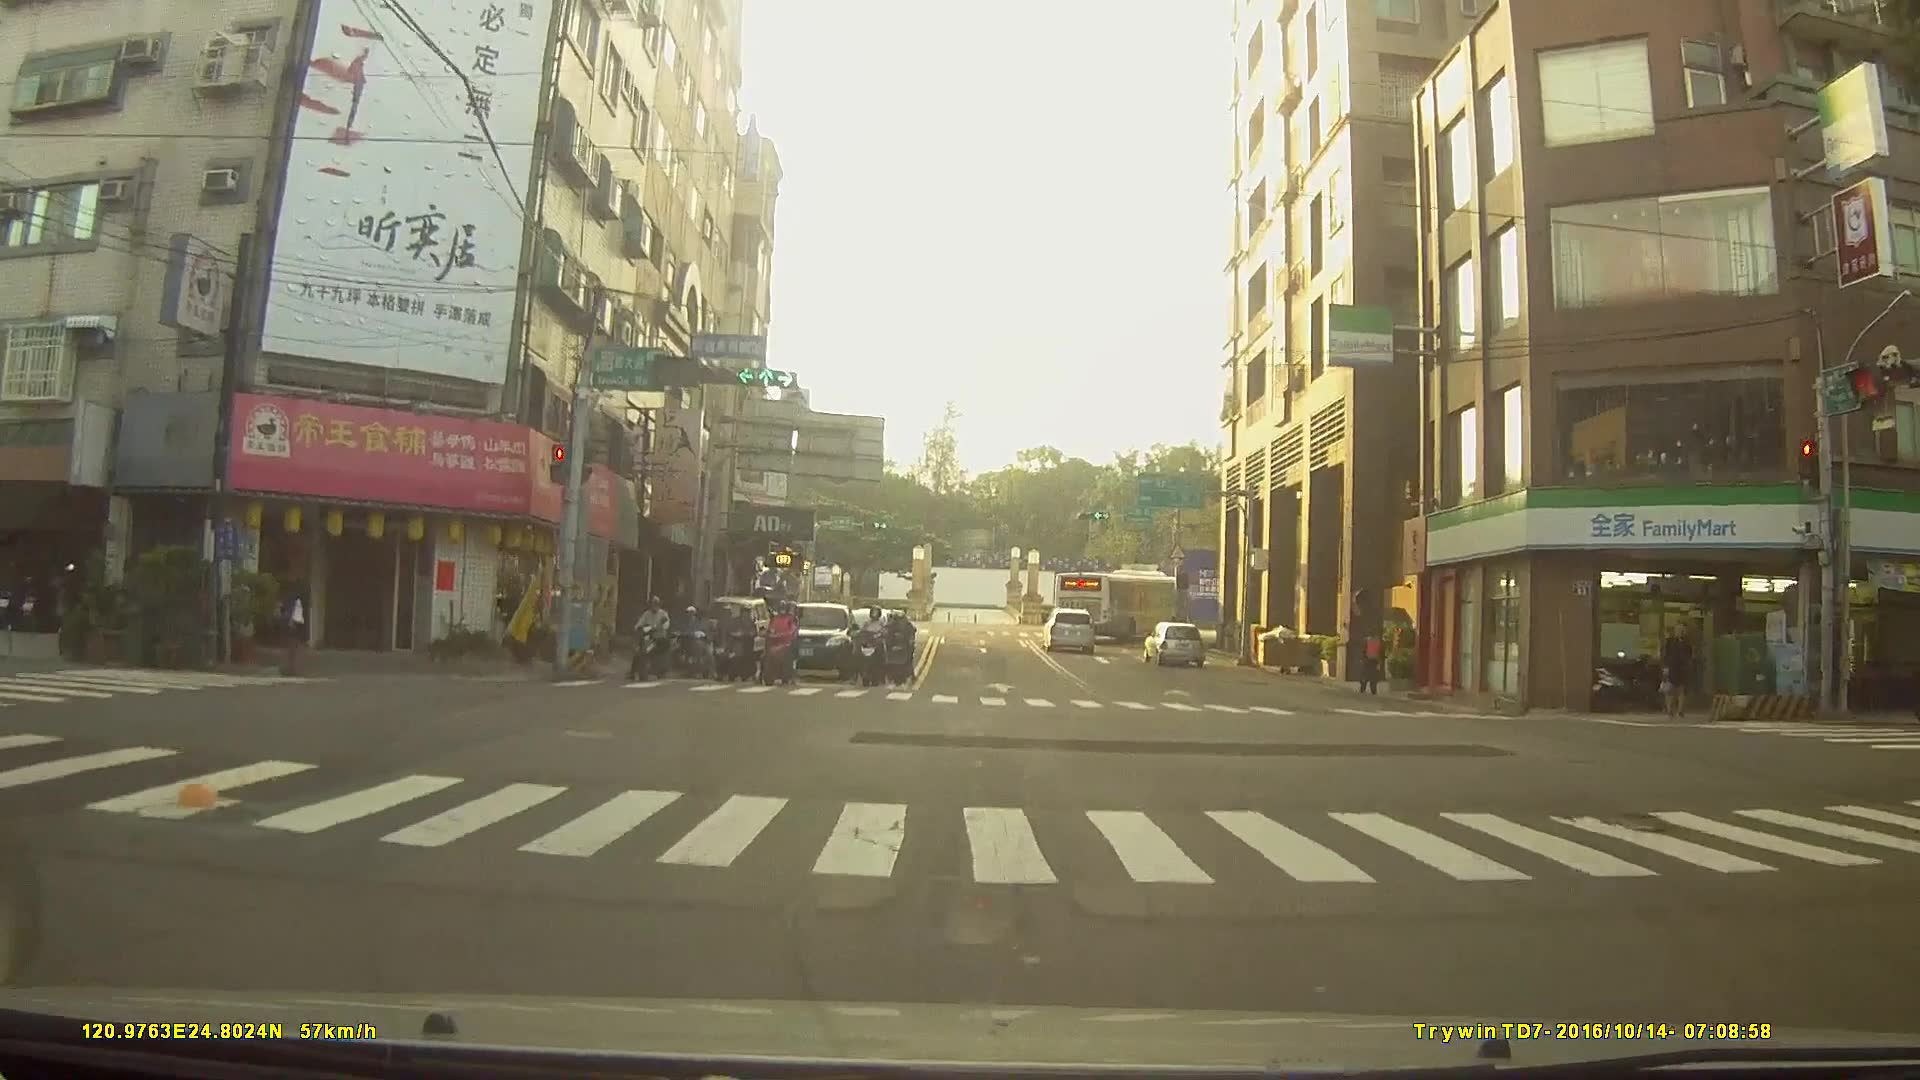pedestrian: (272, 577, 314, 677), (1659, 619, 1696, 724), (1357, 627, 1389, 696)
rider: (759, 595, 803, 689), (635, 596, 675, 688), (883, 606, 922, 687), (859, 602, 895, 685), (723, 601, 759, 679), (677, 599, 713, 672)
vehicle: (1051, 567, 1190, 639), (773, 602, 859, 678), (1140, 621, 1207, 667), (1042, 606, 1098, 654)
